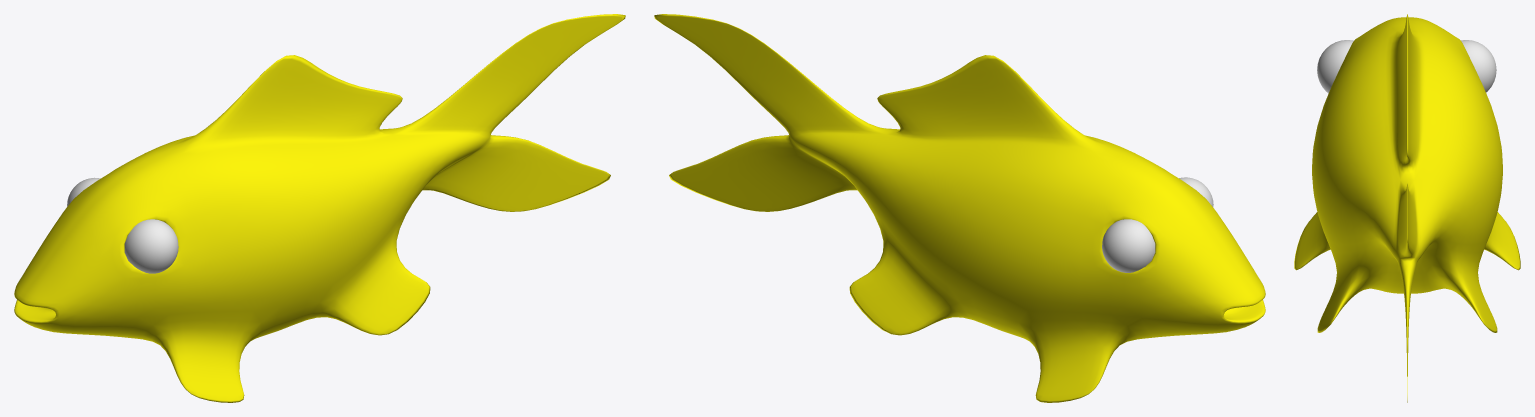
The model's file is fish.FBX.fbx.
3 renders of one model, left to right at view 1: azimuth 30°, elevation 25°; view 2: azimuth 150°, elevation 25°; view 3: azimuth 270°, elevation 25°, orthographic. The views are drawn at different scales.
Visible parts, largest first — view 1: Box001, Sphere001; view 2: Box001, Sphere002; view 3: Box001, Sphere001, Sphere002.
Part boxes in pixels (x1,y1,x2,y2): Box001: [14, 14, 625, 402]; Sphere001: [124, 219, 178, 273]; Box001: [654, 14, 1265, 402]; Sphere002: [1102, 219, 1155, 272]; Box001: [1294, 14, 1520, 402]; Sphere001: [1317, 40, 1353, 93]; Sphere002: [1461, 40, 1496, 92].
Bounding box in the file's own units: 181 × 80.86 × 54.51.
